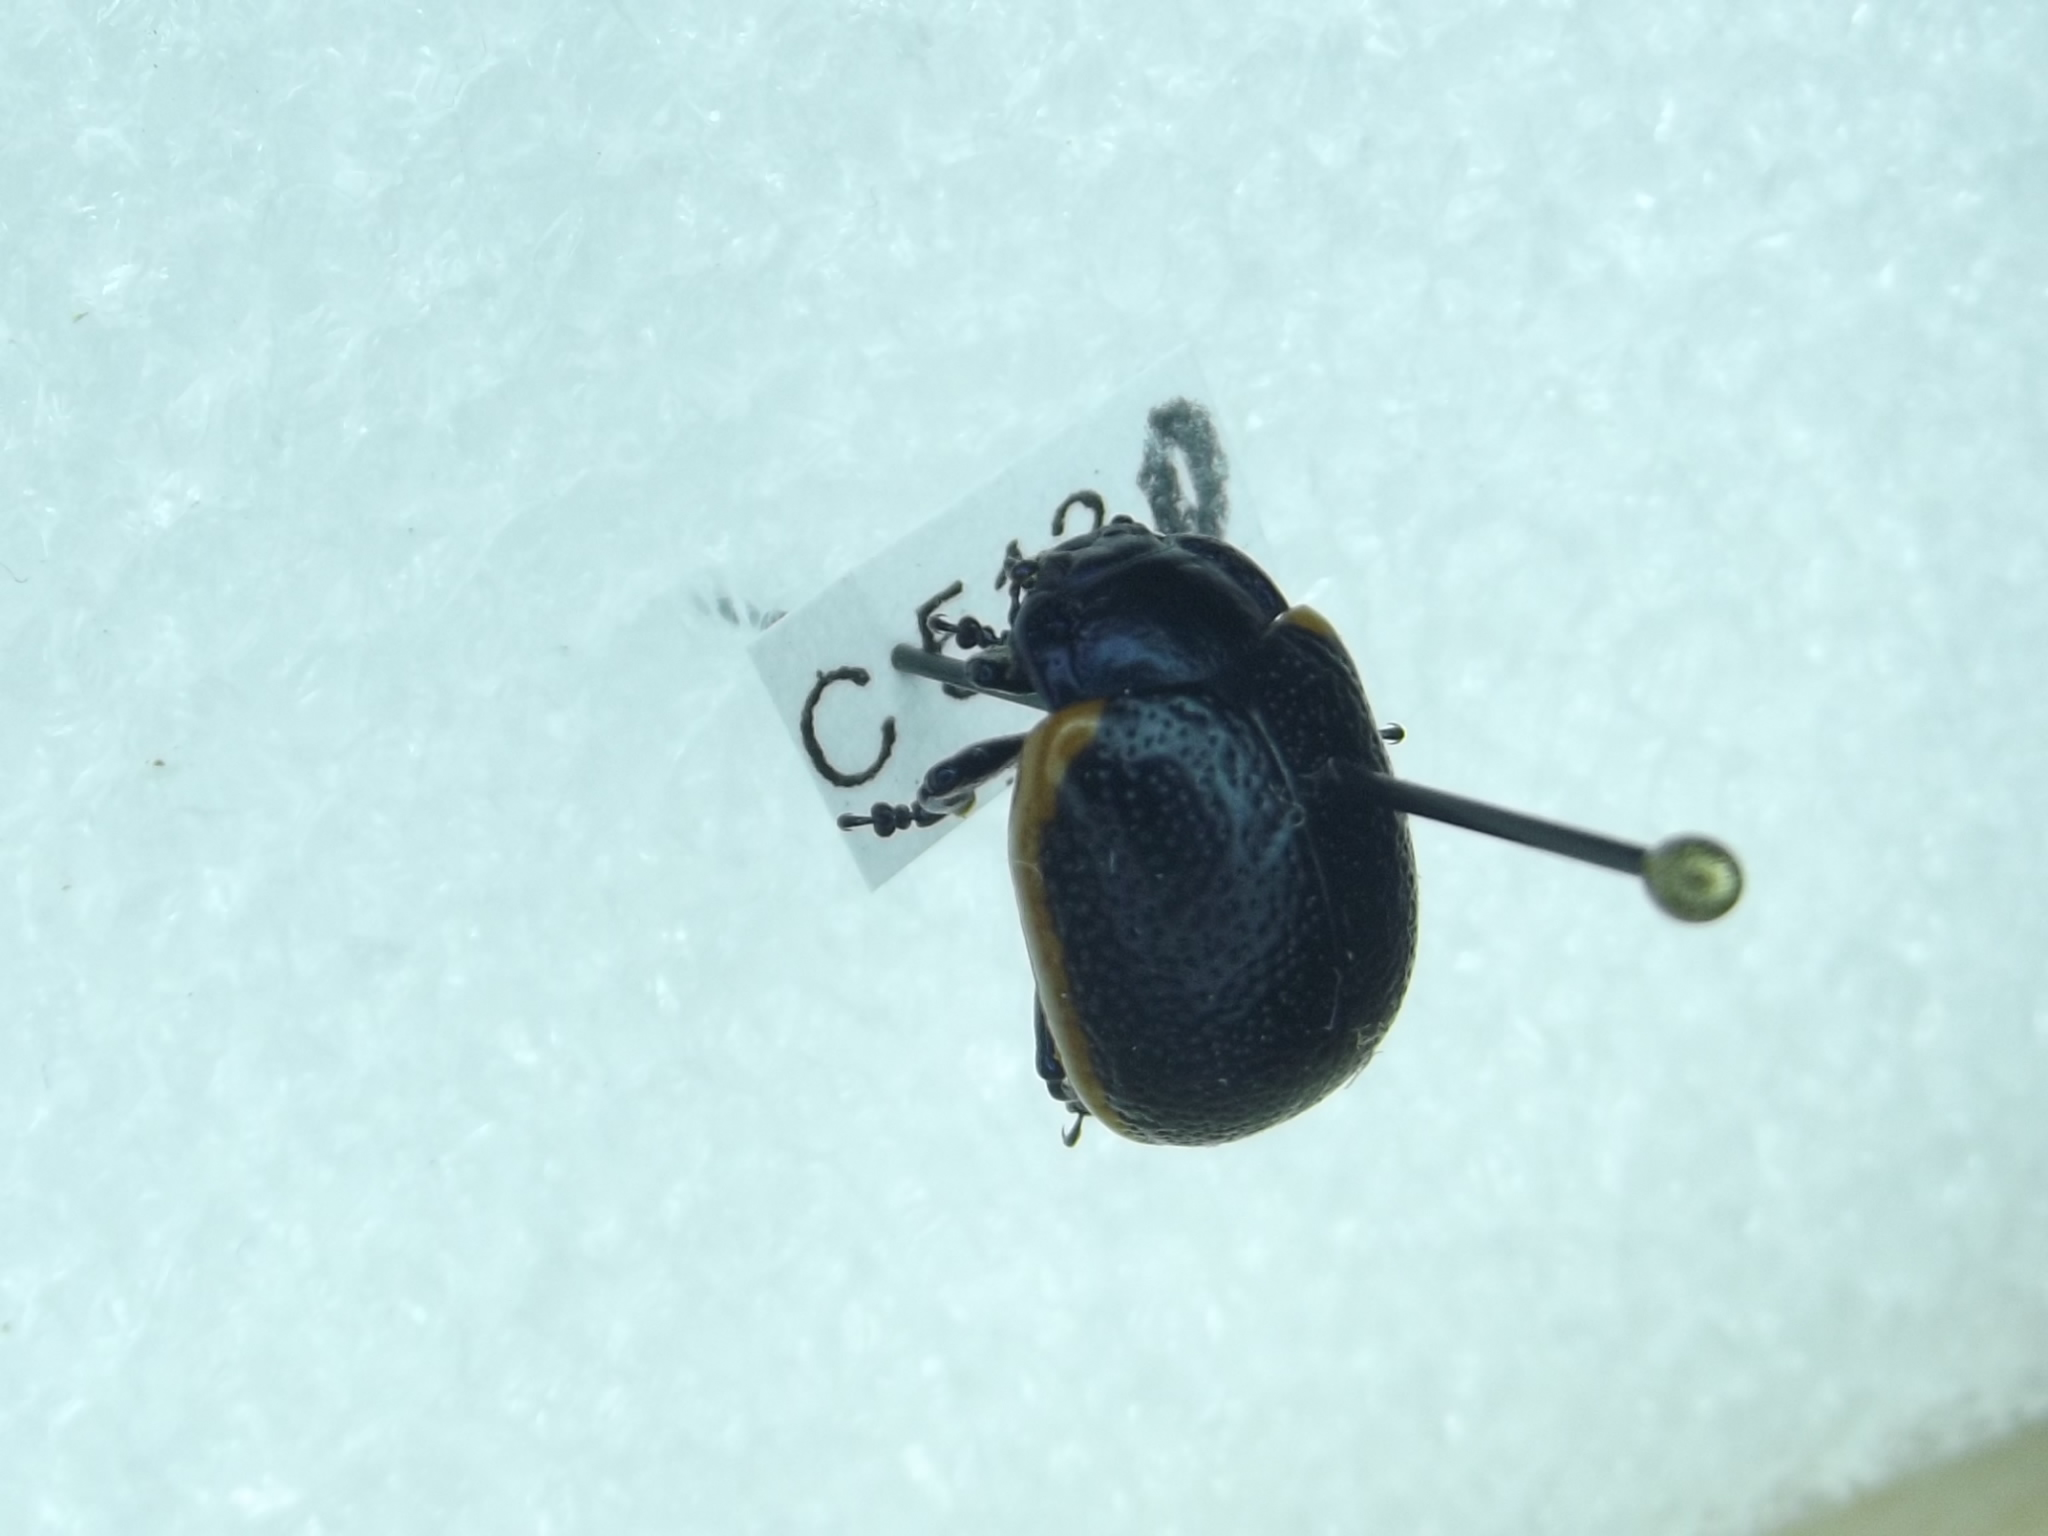Chrysolina_gypsophila: (806, 495, 1442, 1160)
